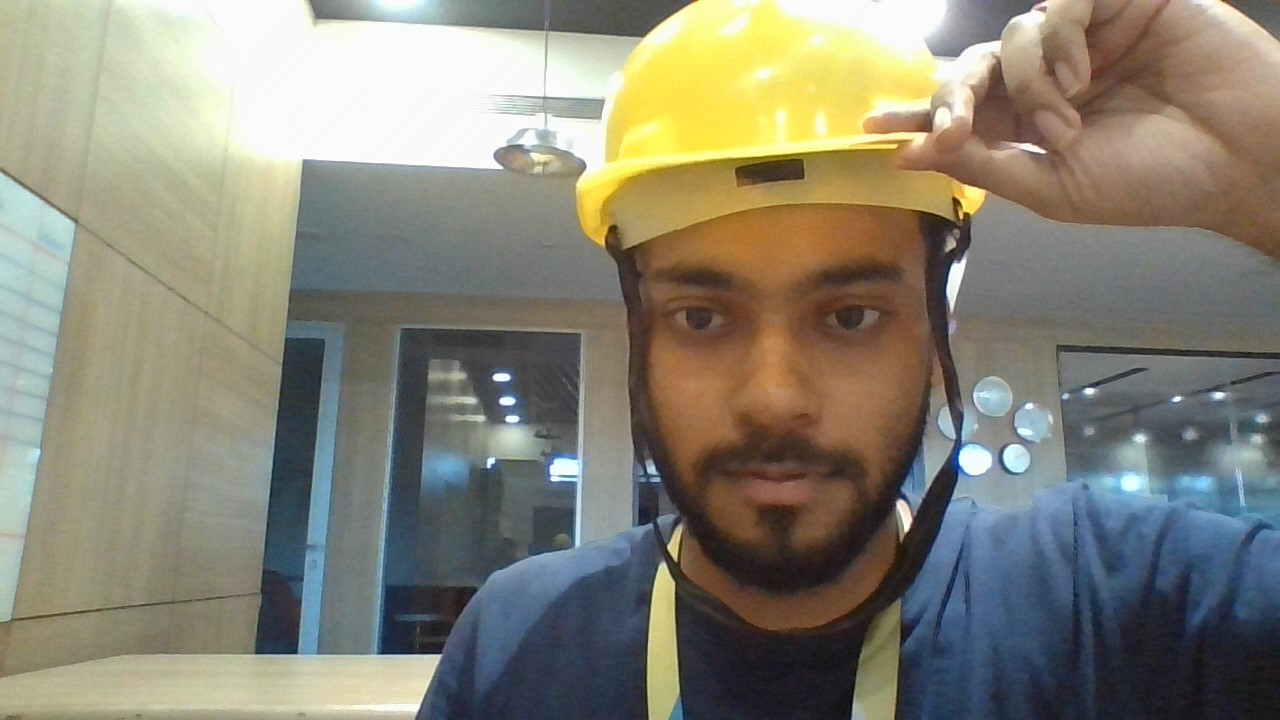Person_wearing_helmet: (556, 0, 990, 332)
